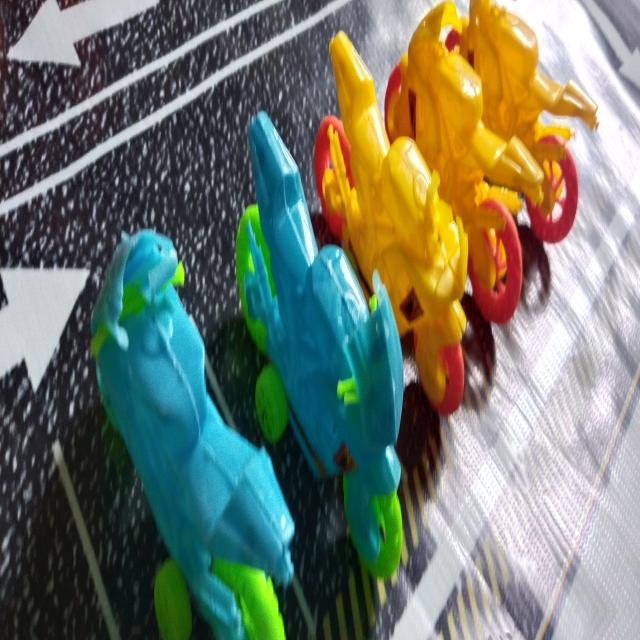occupied: (212, 112, 403, 638), (71, 230, 304, 640), (314, 31, 467, 488), (385, 2, 539, 381), (460, 0, 597, 303)
